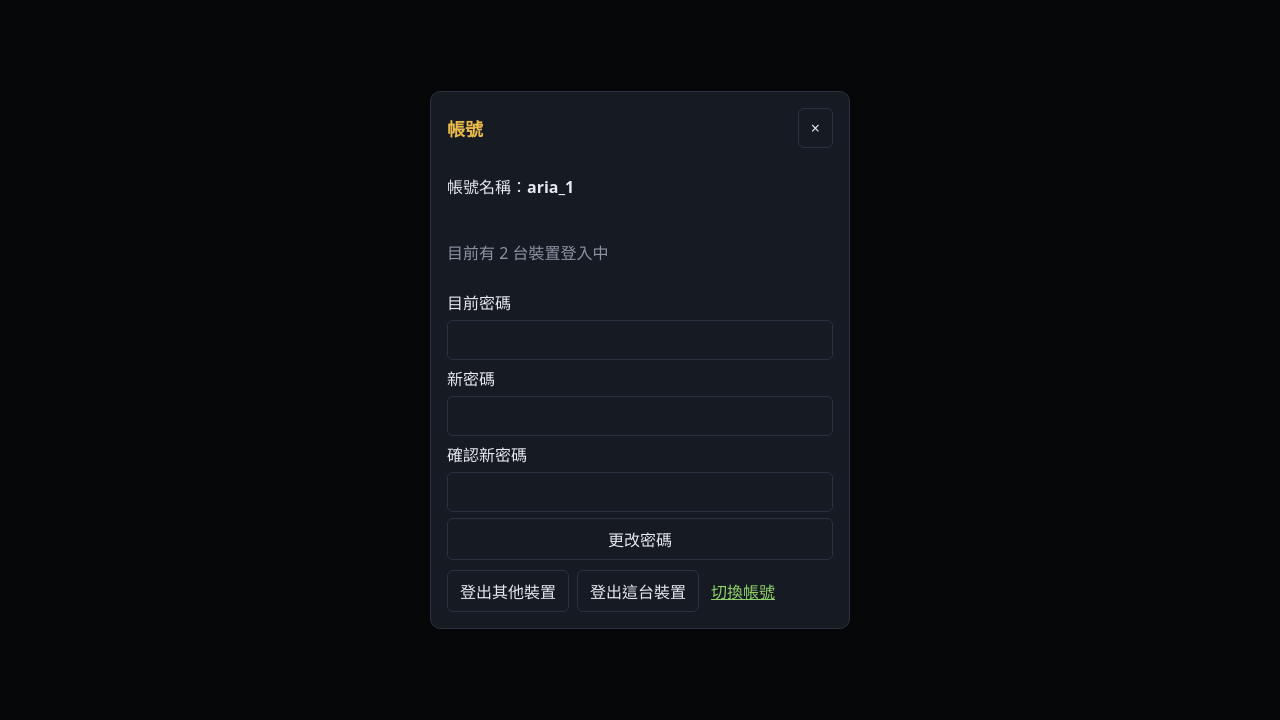
Test: AccountDialog (bound) › keeps the session when logout fails on the network
Expected: the text "aria_1" is shown, [527,176,574,198]
Click the button "登出這台裝置": [638, 591] box [577,570,699,612]
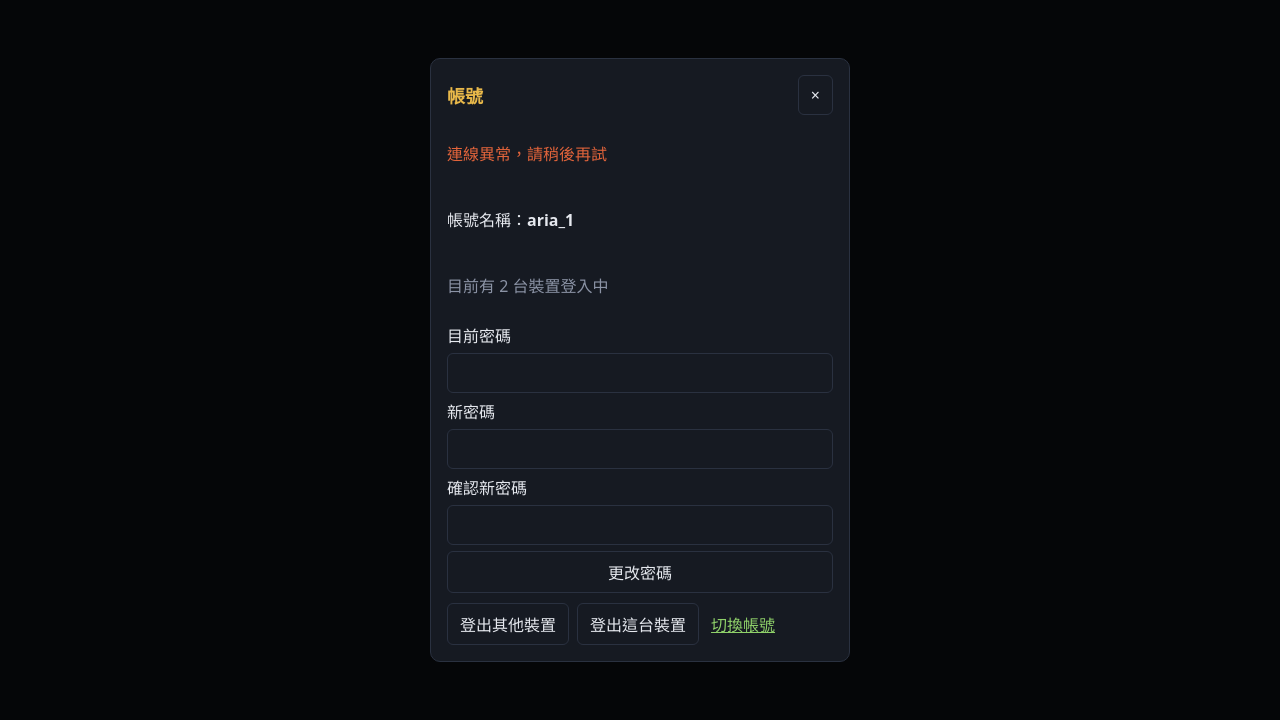
Expected: the message reads "連線異常，請稍後再試", [447,143,607,165]
